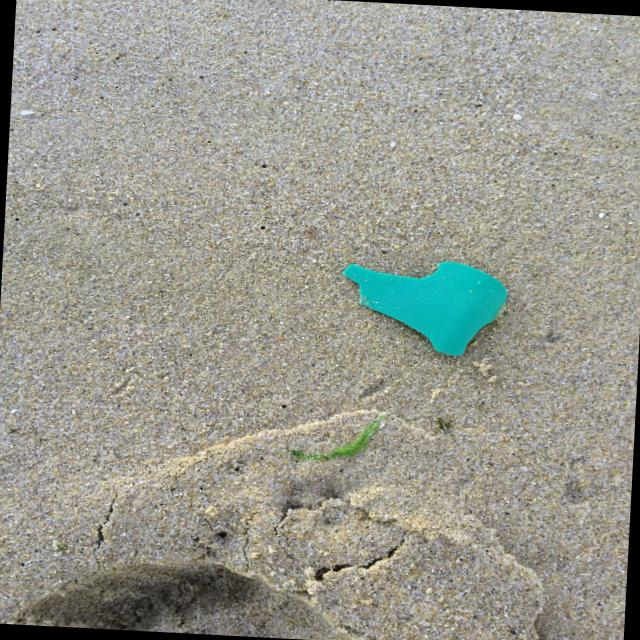less trash: (342, 262, 507, 356)
